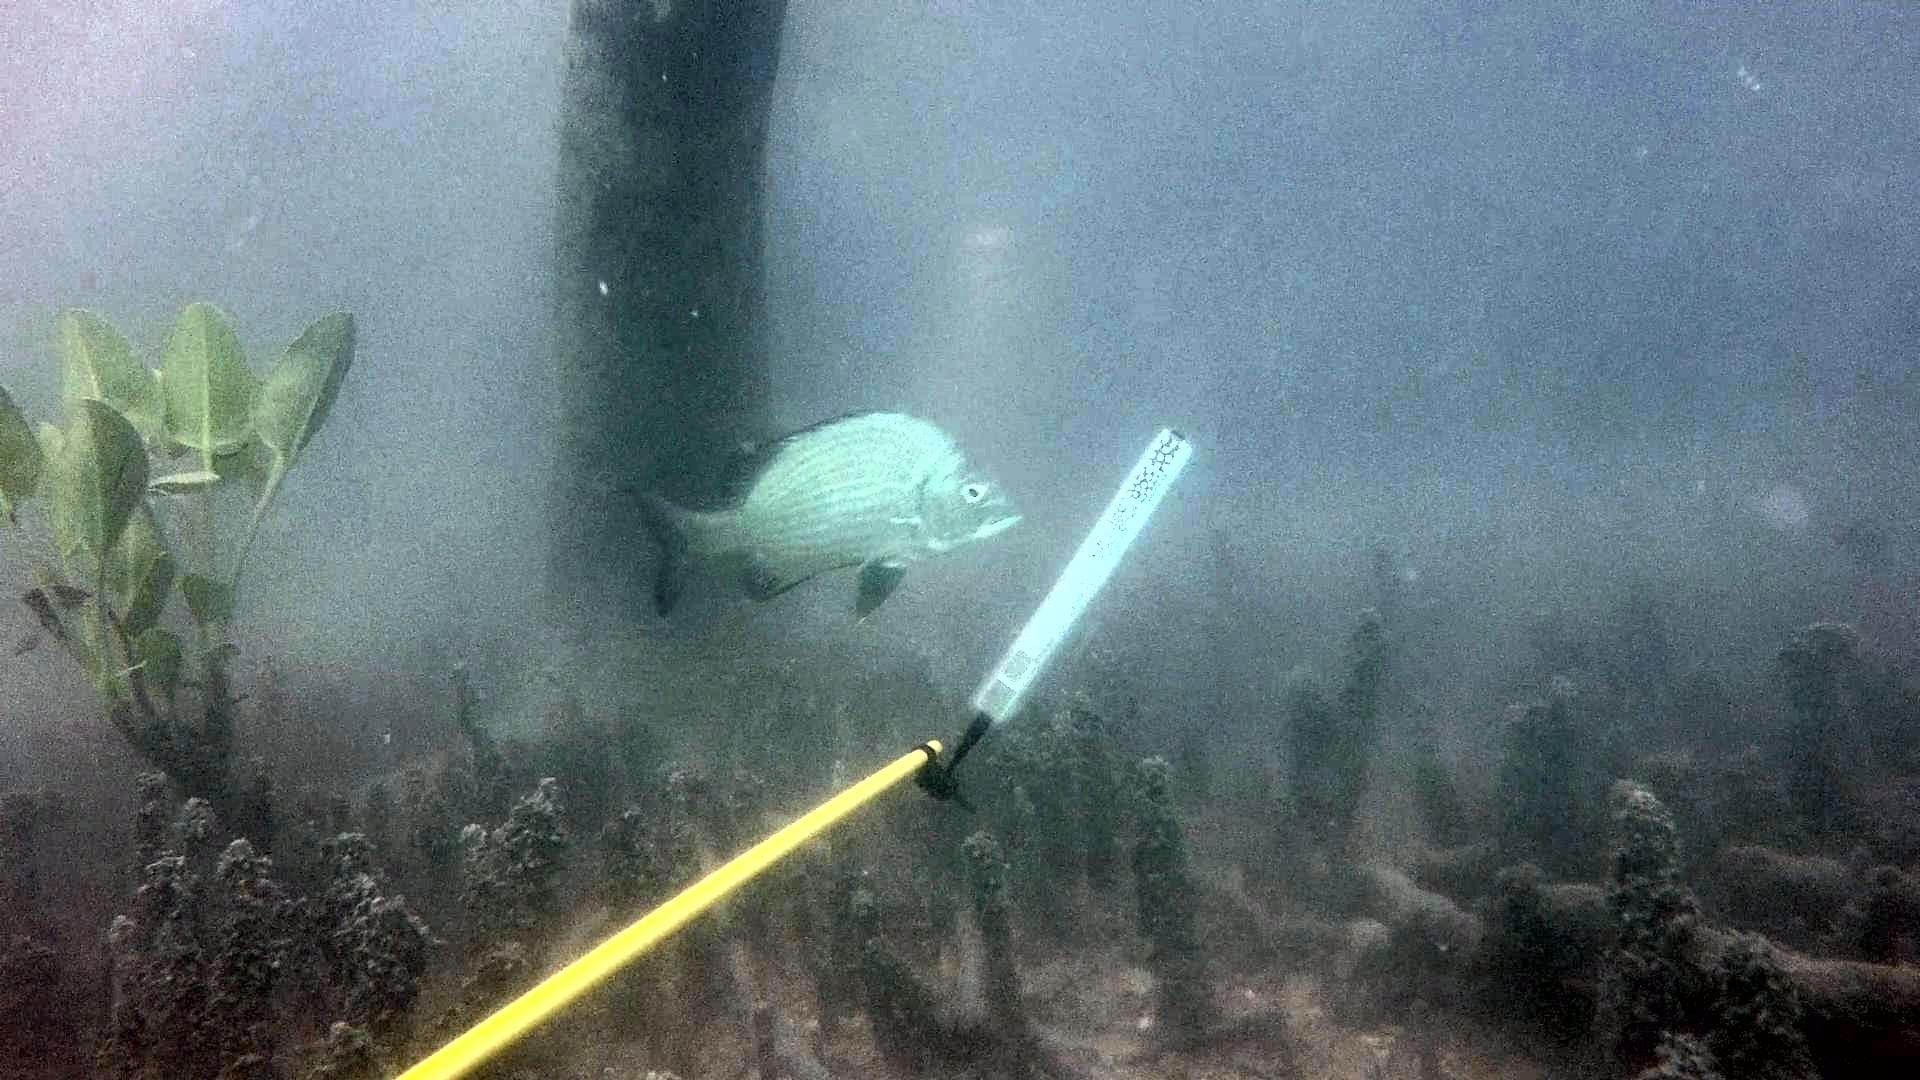acanthopagrus palmaris: (613, 398, 1035, 633)
